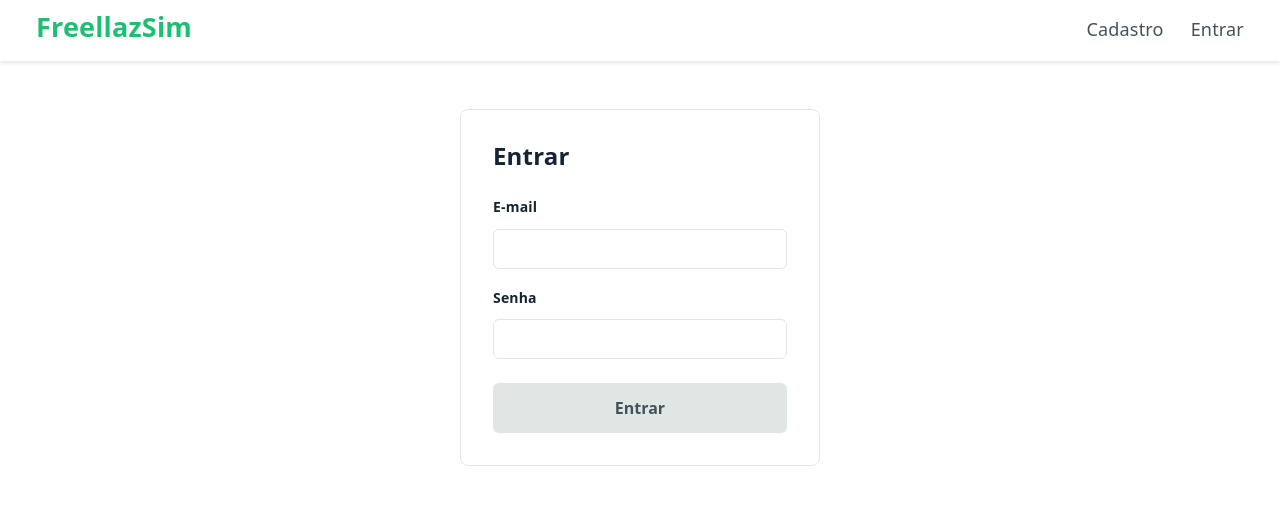
Test: Login › exibe mensagem de erro quando a senha é muito curta
Type "123" into the password field labelled "Senha".
click(640, 339); type("123")  # box [493,319,787,359]
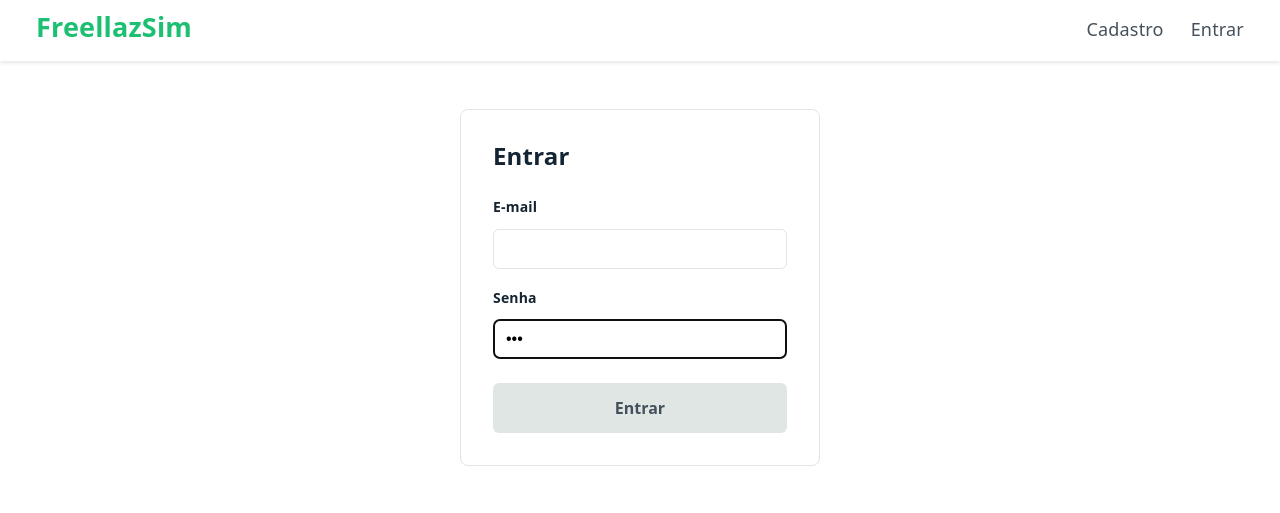
Press Tab
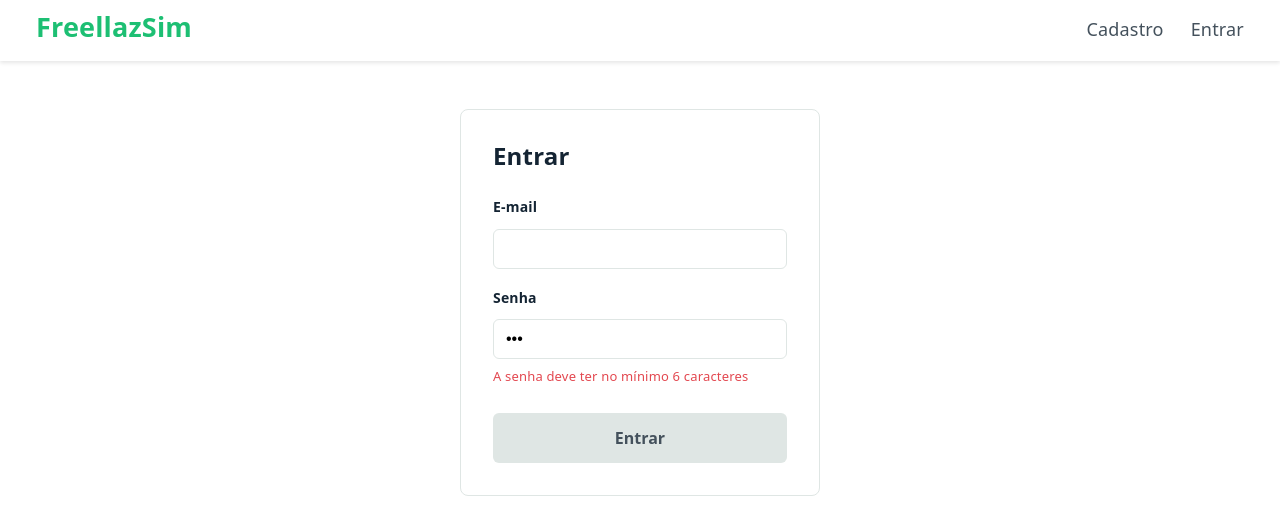
Check: the button "Entrar" is disabled, box [493,413,787,463]
Check: the text "A senha deve ter no mínimo 6 caracteres" is shown, box [493,363,787,389]
